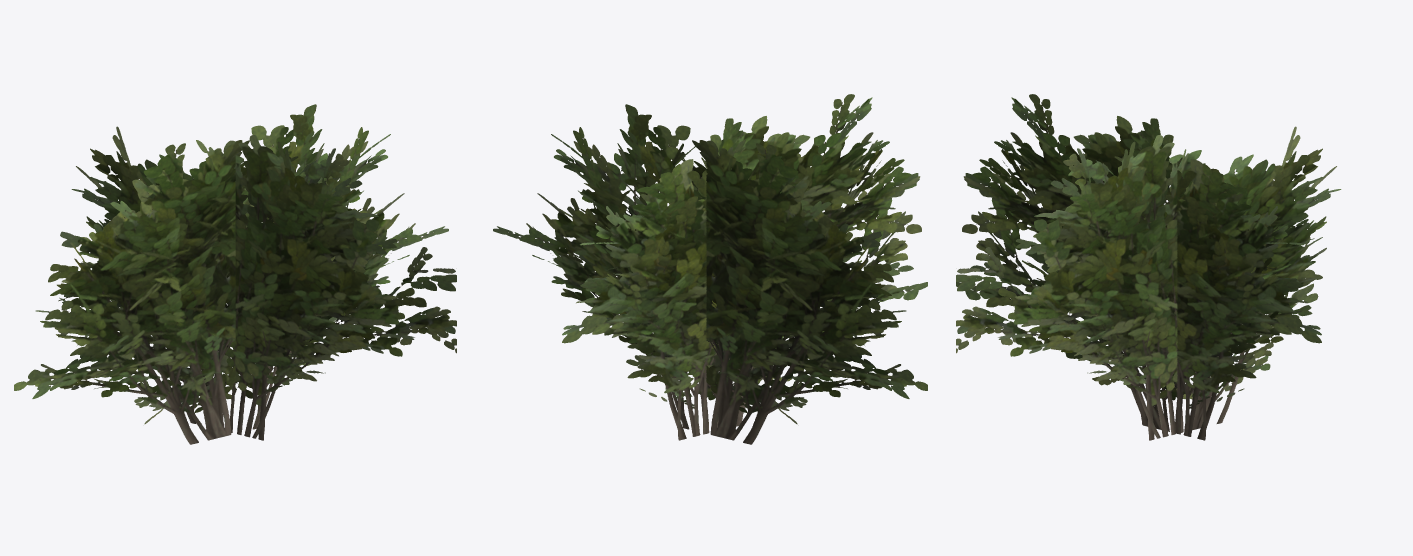
The model's file is liska_2_daleko.glb.
The picture shows the model from 3 angles, left to right: view 1: azimuth 30°, elevation 25°; view 2: azimuth 150°, elevation 25°; view 3: azimuth 270°, elevation 25°; orthographic projection.
Parts seen in each view (by area): view 1: liska_2_daleko; view 2: liska_2_daleko; view 3: liska_2_daleko.
Part boxes in pixels (left/top/right/bottom): liska_2_daleko: left=14, top=104, right=456, bottom=444; liska_2_daleko: left=493, top=94, right=927, bottom=444; liska_2_daleko: left=956, top=94, right=1341, bottom=440.
Bounding box in the file's own units: 4.45 × 2.99 × 3.85.
3 materials, 3 textured.
